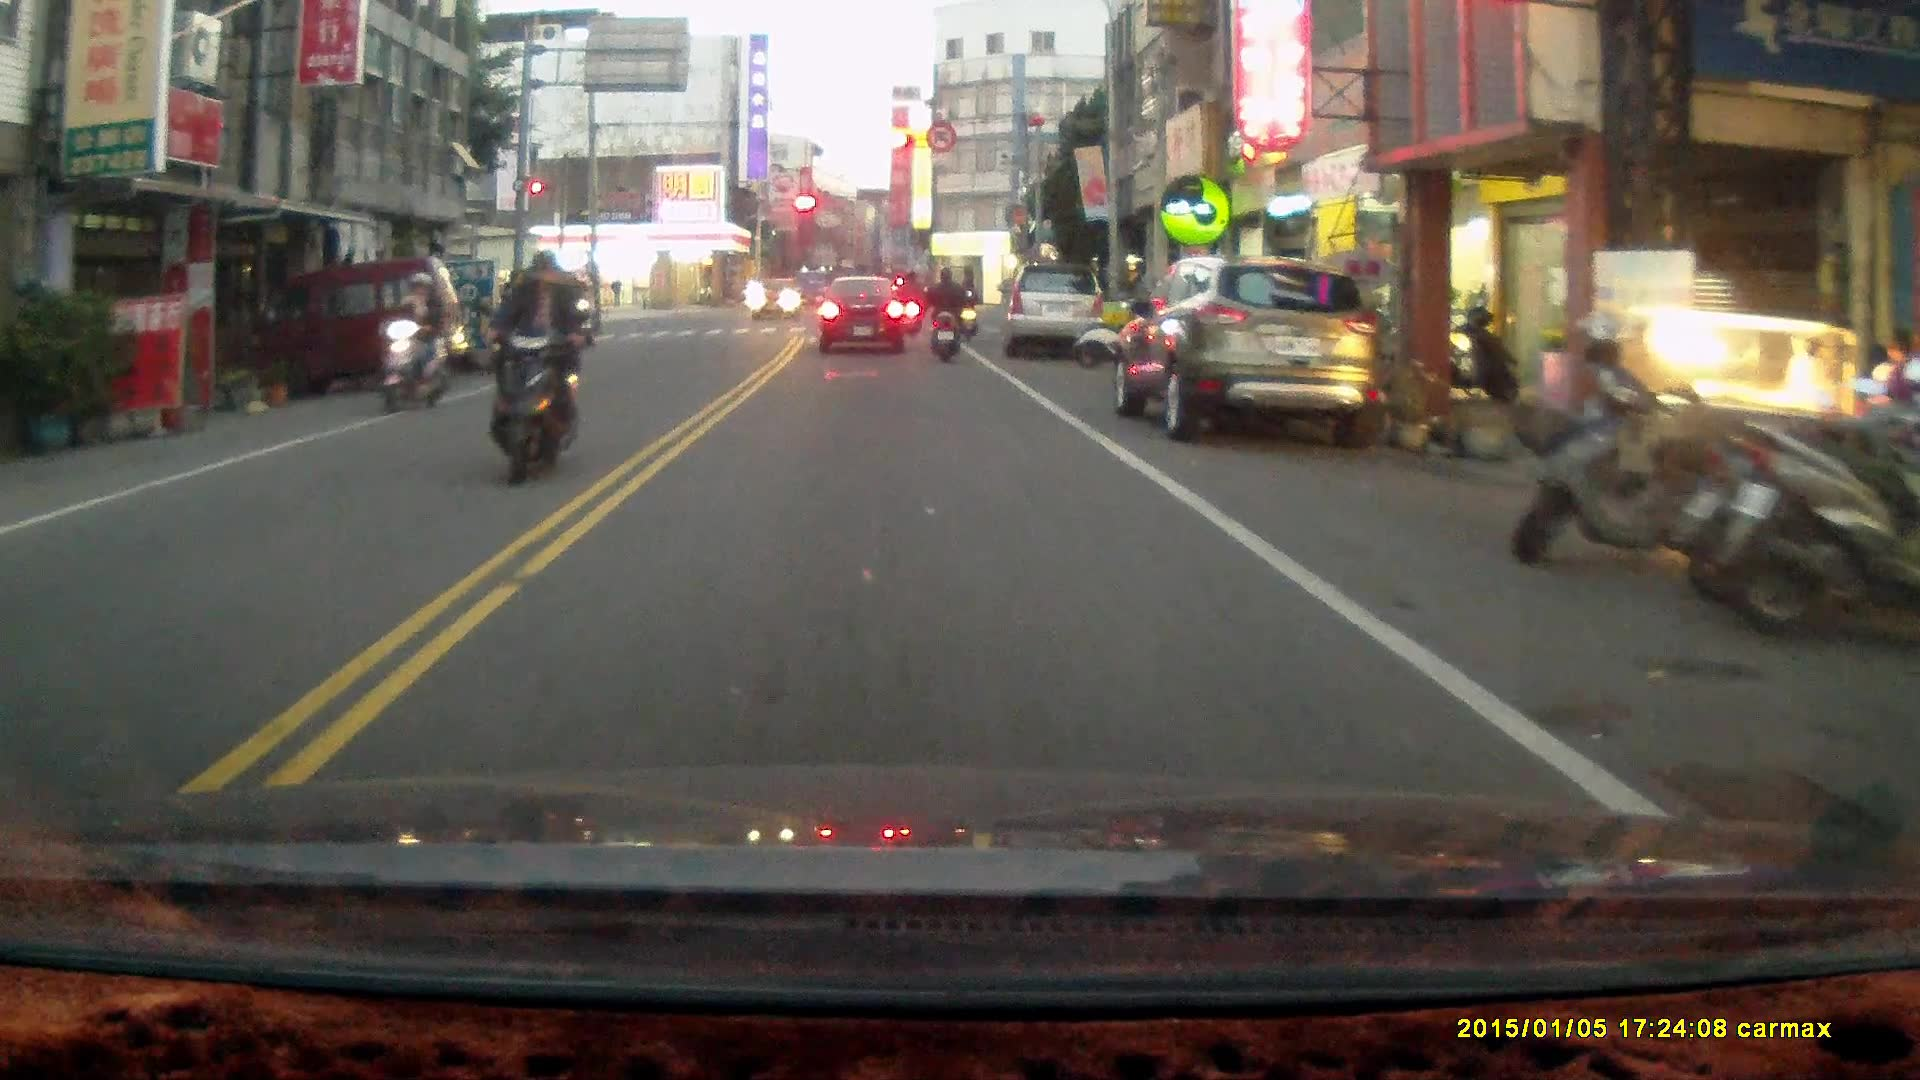pedestrian: (1871, 323, 1920, 482)
rider: (471, 246, 590, 487), (377, 271, 455, 416), (919, 266, 965, 365), (895, 266, 925, 334), (954, 273, 980, 341)
vehicle: (1119, 257, 1381, 451), (248, 256, 470, 401), (1006, 267, 1108, 363), (819, 279, 911, 354), (745, 272, 803, 325)
